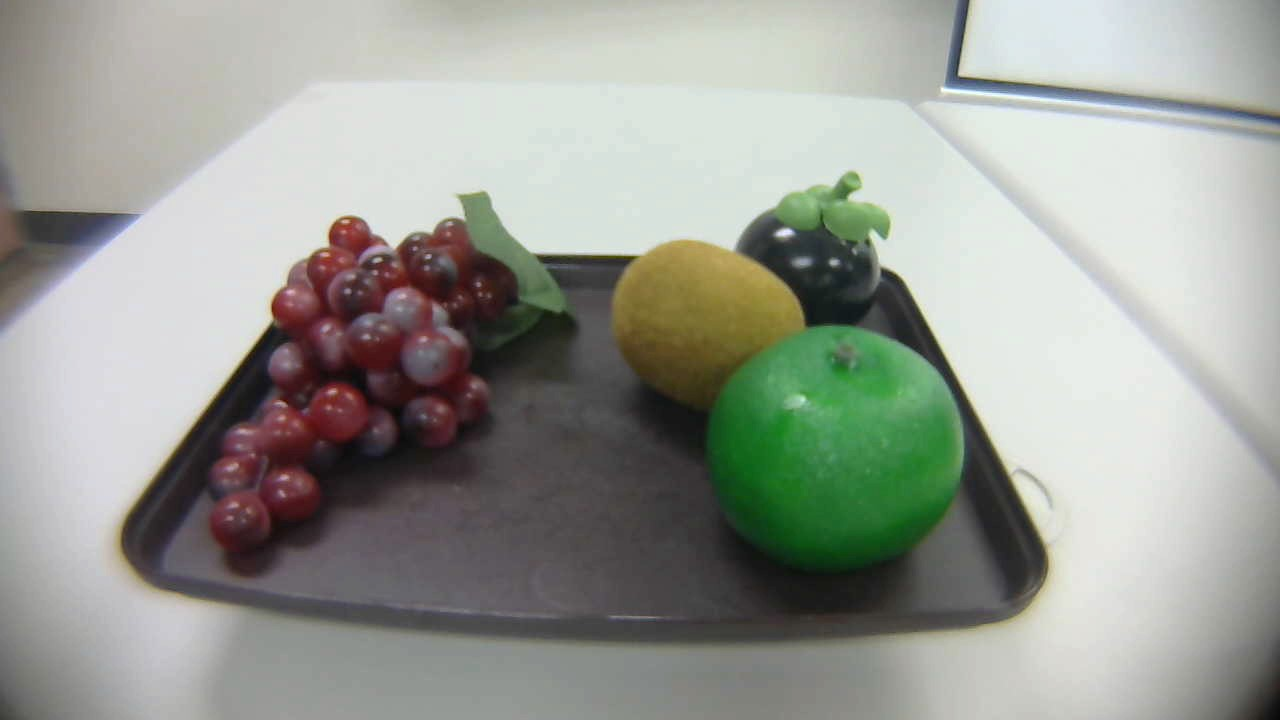grape: (208, 184, 570, 564)
green orange: (700, 318, 963, 581)
kiwi fruit: (599, 237, 812, 409)
mangosteen: (732, 168, 892, 340)
